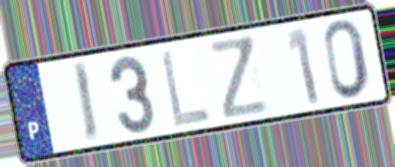0: (321, 17, 372, 102)
1: (285, 24, 323, 107)
3: (108, 52, 157, 136)
I: (69, 58, 102, 146)
L: (157, 45, 214, 130)
Z: (207, 33, 272, 122)
